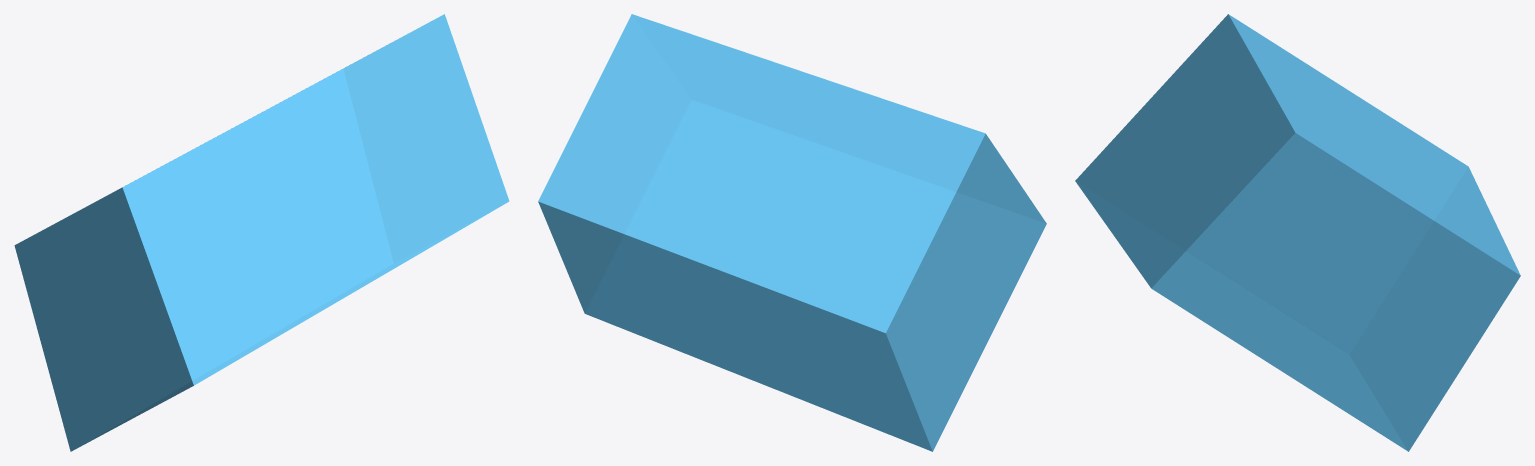
The model's file is Event_421115418_HErechit_83.fbx.
3 views of the same model, side by side, from view 1: azimuth 30°, elevation 25°; view 2: azimuth 150°, elevation 25°; view 3: azimuth 270°, elevation 25° (orthographic). The views are drawn at different scales.
Parts seen in each view (by area): view 1: Model; view 2: Model; view 3: Model.
Part boxes in pixels (<box>): Model: <box>14,14,509,451</box>; Model: <box>538,14,1046,451</box>; Model: <box>1075,14,1520,451</box>.
Bounding box in the file's own units: 0.7339 × 0.7369 × 0.7224.
